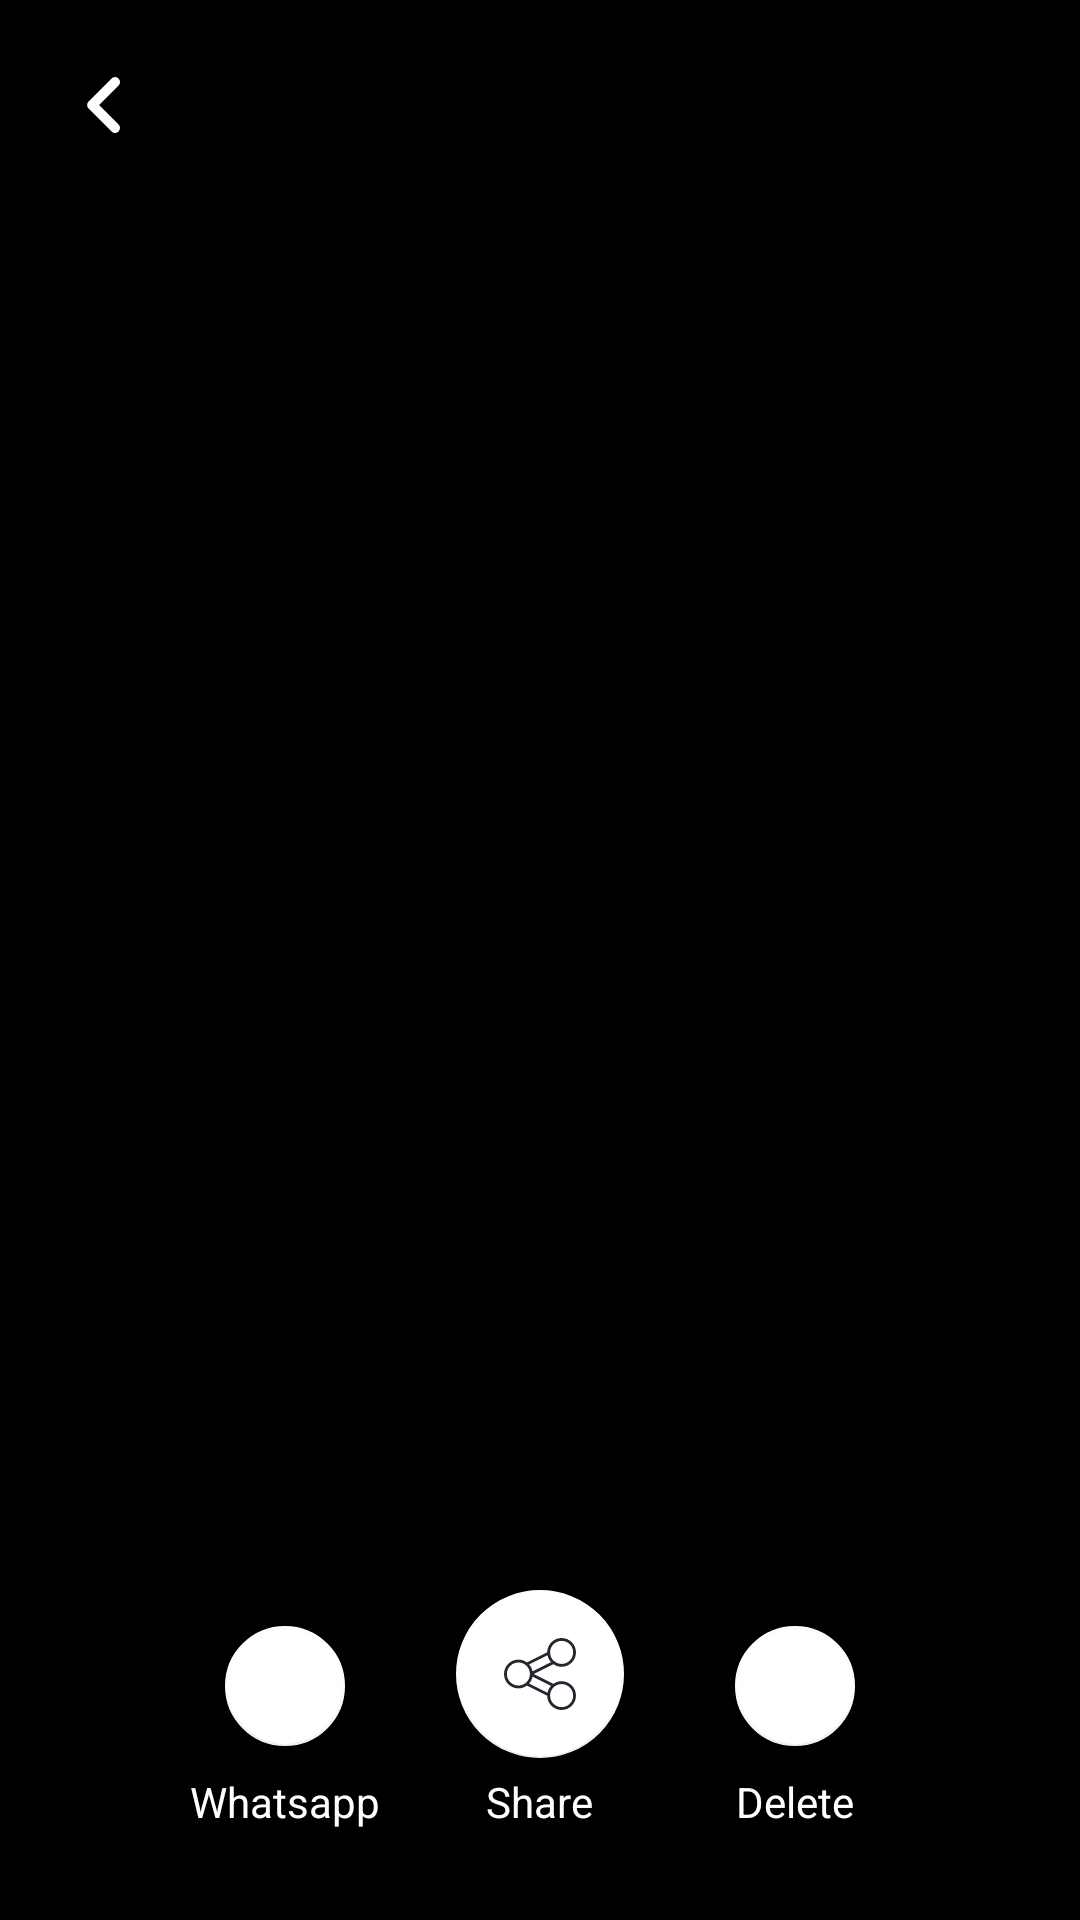

Where icons sit on this 1080×1920 app screen, as {"left": x1, "top": y1, "right": x2, "bottom": y2}:
back: {"left": 87, "top": 77, "right": 120, "bottom": 133}
